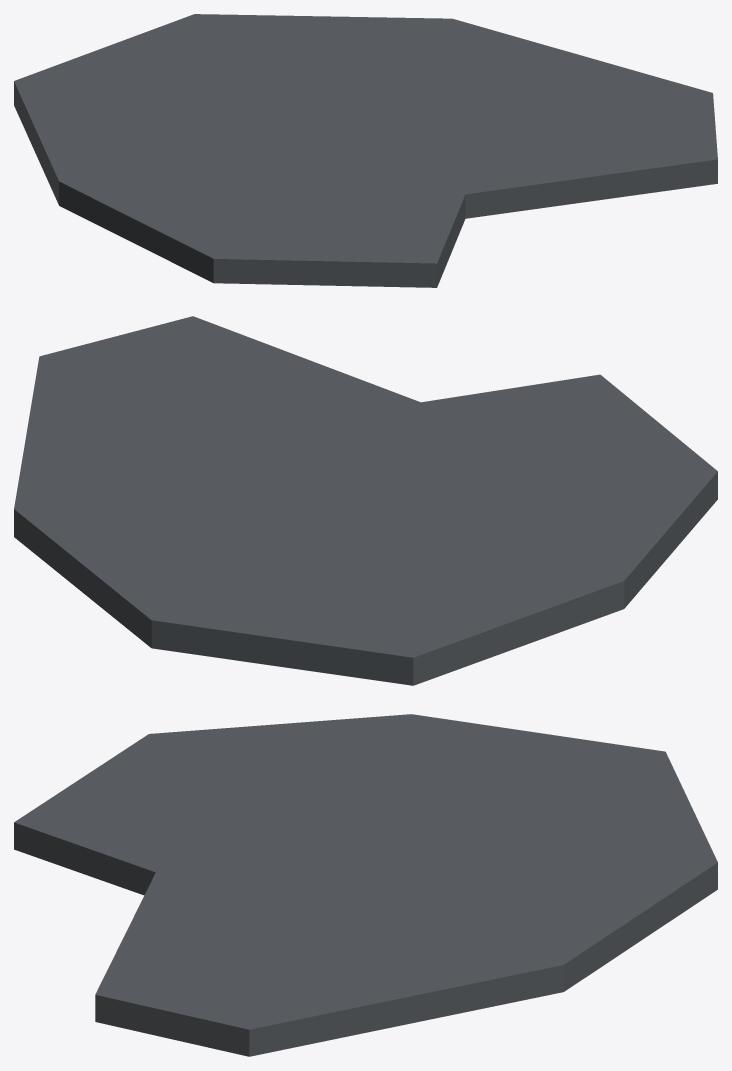
The model's file is TP_Stone03.fbx.
3 renders of one model, top to bottom at view 1: azimuth 30°, elevation 25°; view 2: azimuth 150°, elevation 25°; view 3: azimuth 270°, elevation 25°, orthographic. The views are drawn at different scales.
Parts seen in each view (by area): view 1: TP_Stone03; view 2: TP_Stone03; view 3: TP_Stone03.
Part boxes in pixels (bbox=[...]): TP_Stone03: bbox=[14, 14, 717, 287]; TP_Stone03: bbox=[14, 316, 717, 685]; TP_Stone03: bbox=[14, 714, 717, 1056].
Size of the model in its own units: 71.36 by 2.86 by 67.28.
Materials: 1 (1 with a texture image).
